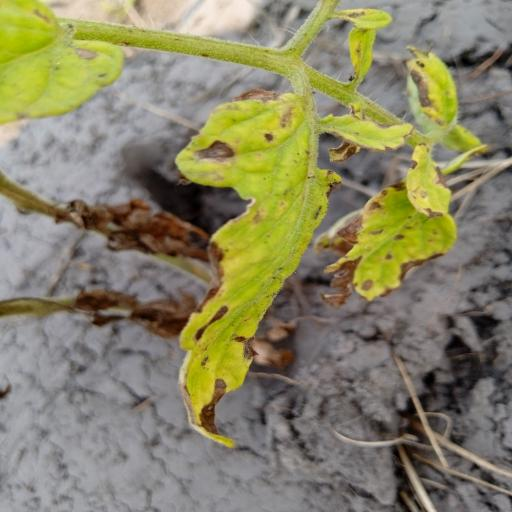Tomato_Brown_Spots: (179, 82, 332, 452), (318, 142, 464, 304)
